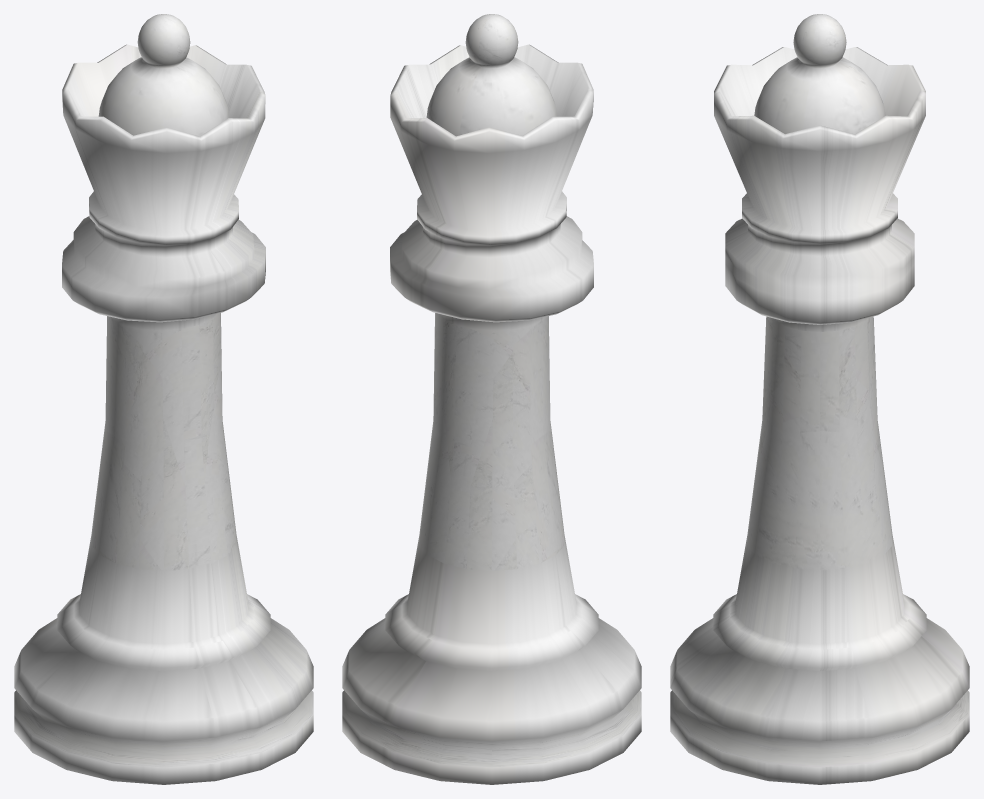
File: w-queen-stone.gltf
3 views of the same model, side by side, from view 1: azimuth 30°, elevation 25°; view 2: azimuth 150°, elevation 25°; view 3: azimuth 270°, elevation 25° (orthographic).
Parts seen in each view (by area): view 1: W_Queen; view 2: W_Queen; view 3: W_Queen.
Part boxes in pixels (box(x1,y1,x2,y2)): W_Queen: box(14, 14, 313, 784); W_Queen: box(342, 14, 641, 784); W_Queen: box(670, 14, 969, 784).
Size of the model in its own units: 49.35 by 128 by 48.6.
1 material, 1 textured.
